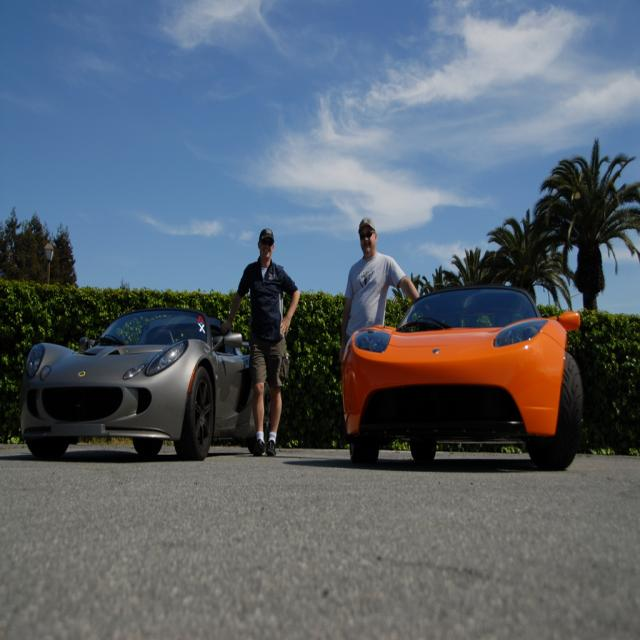car: (339, 288, 580, 467)
